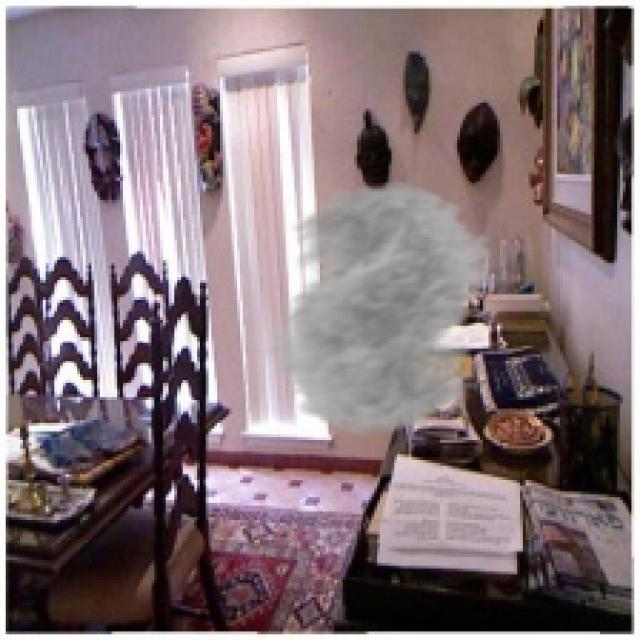smoke: (246, 180, 523, 437)
